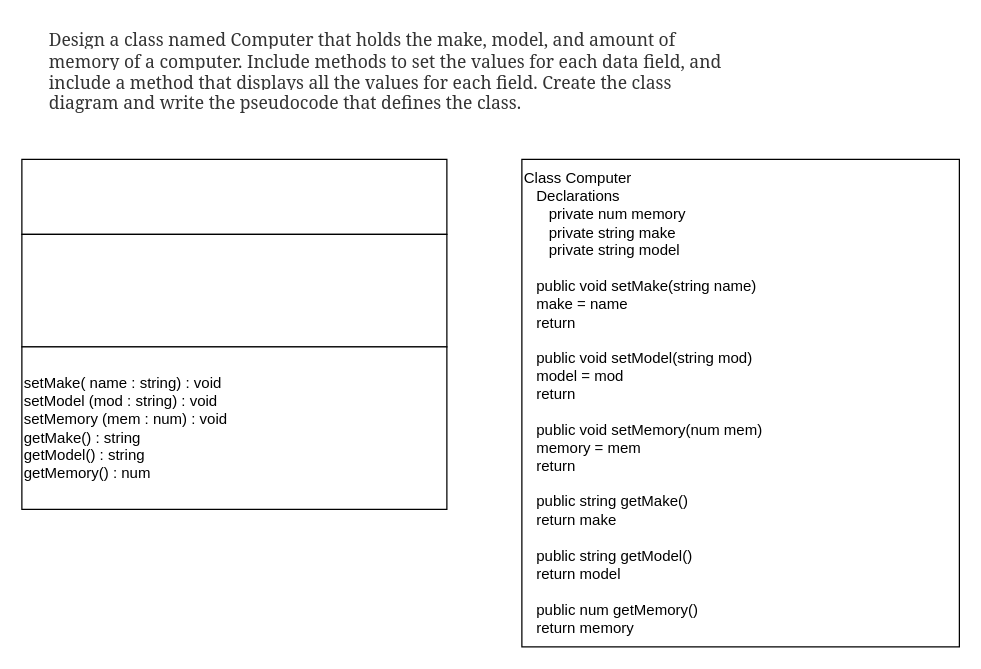
Image size: 981x669. Some labels were removed from this diagram. Each missing label, with the centre of its shape:
"Computer" goes at point 234,196.
"make : string model : string memory : num" goes at point 234,290.
